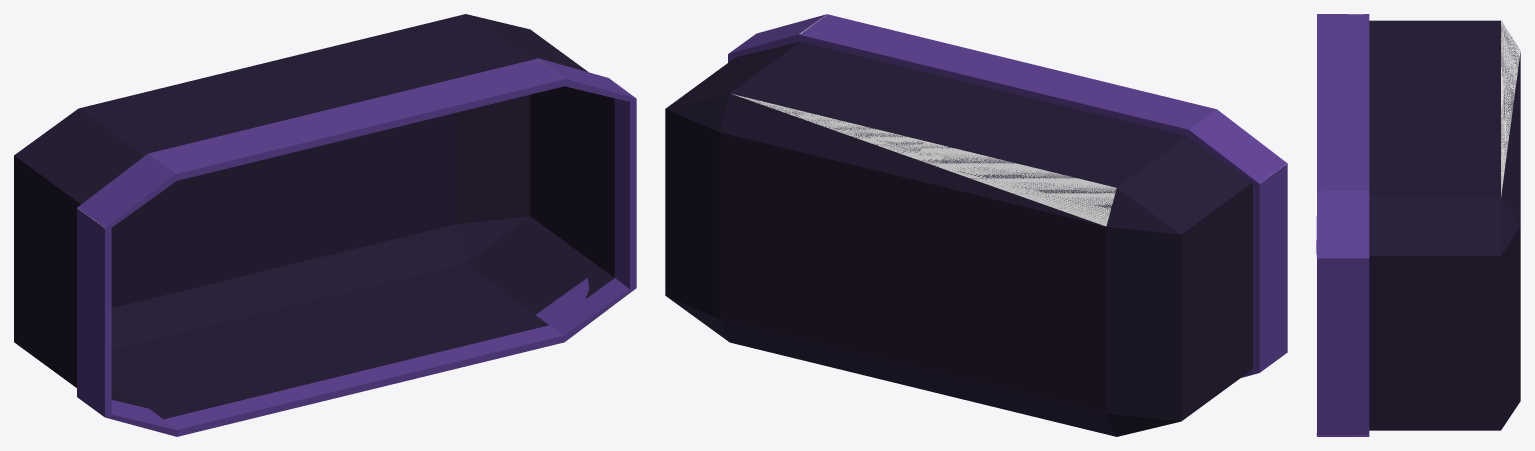
File: base_cor.gltf
The picture shows the model from 3 angles, left to right: view 1: azimuth 30°, elevation 25°; view 2: azimuth 150°, elevation 25°; view 3: azimuth 270°, elevation 25°; orthographic projection. The views are drawn at different scales.
Visible parts, largest first — view 1: caixote, faixa_frontal, faixa_lateral (×2), faixa_diagonal (×4), faixa_posterior; view 2: caixote, faixa_frontal, faixa_lateral, faixa_diagonal (×2); view 3: caixote, faixa_frontal, faixa_lateral, faixa_diagonal.
Boxes of the visible parts, x1,y1,x2,y2 form: caixote: (14, 14, 614, 419); faixa_frontal: (148, 58, 565, 180); faixa_lateral (×2): (77, 98, 636, 417); faixa_diagonal (×4): (77, 58, 636, 436); faixa_posterior: (164, 325, 564, 436); caixote: (665, 42, 1252, 436); faixa_frontal: (799, 14, 1216, 136); faixa_lateral: (1253, 163, 1287, 372); faixa_diagonal (×2): (728, 14, 1287, 183); caixote: (1369, 20, 1520, 430); faixa_frontal: (1317, 14, 1369, 191); faixa_lateral: (1317, 258, 1369, 434); faixa_diagonal: (1317, 191, 1369, 258).
Bounding box in the file's own units: 29.9 × 14.19 × 10.65.
Materials: 5 (2 with a texture image).
